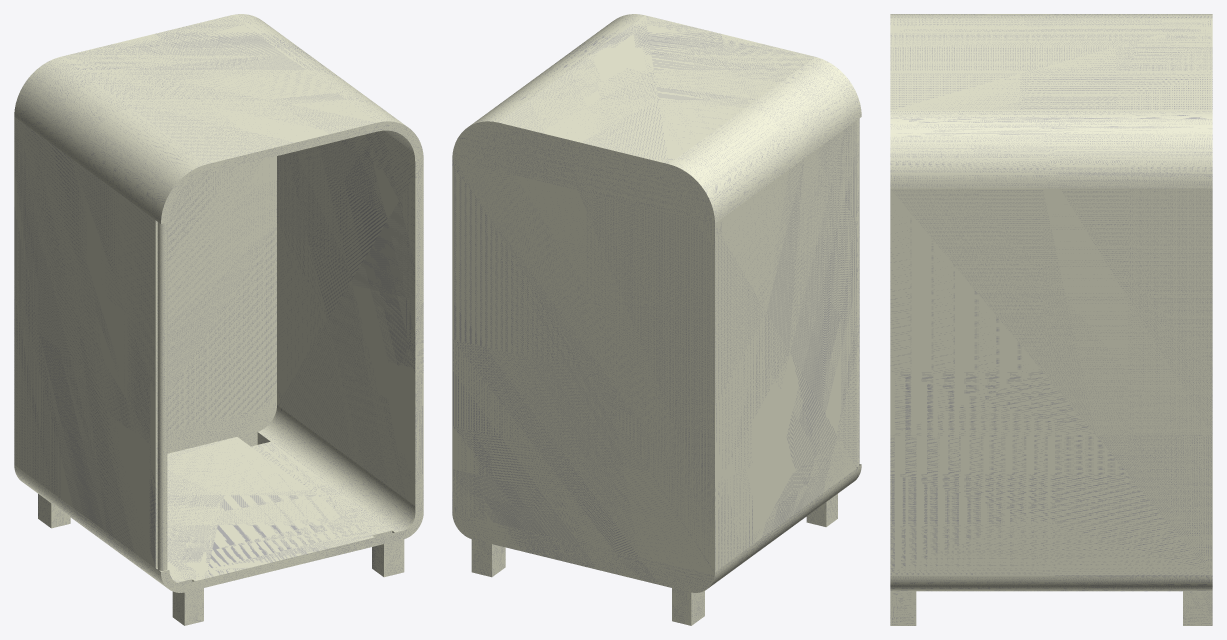
Rendered from original-8.obj.
The picture shows the model from 3 angles, left to right: view 1: azimuth 30°, elevation 25°; view 2: azimuth 150°, elevation 25°; view 3: azimuth 270°, elevation 25°; orthographic projection. The views are drawn at different scales.
Visible parts, largest first — view 1: mesh14/mesh14-geometry/material_0#mesh14-geometry; view 2: mesh14/mesh14-geometry/material_0#mesh14-geometry; view 3: mesh14/mesh14-geometry/material_0#mesh14-geometry.
Boxes of the visible parts, bbox=[...] form: mesh14/mesh14-geometry/material_0#mesh14-geometry: bbox=[14, 14, 423, 625]; mesh14/mesh14-geometry/material_0#mesh14-geometry: bbox=[452, 14, 861, 625]; mesh14/mesh14-geometry/material_0#mesh14-geometry: bbox=[890, 14, 1212, 625].
Size of the model in its own units: 0.8606 by 1.43 by 0.8317.
